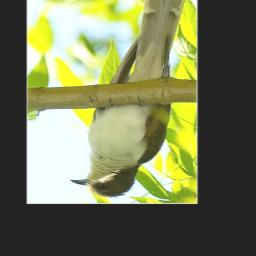Cuckoo: (69, 0, 191, 198)
